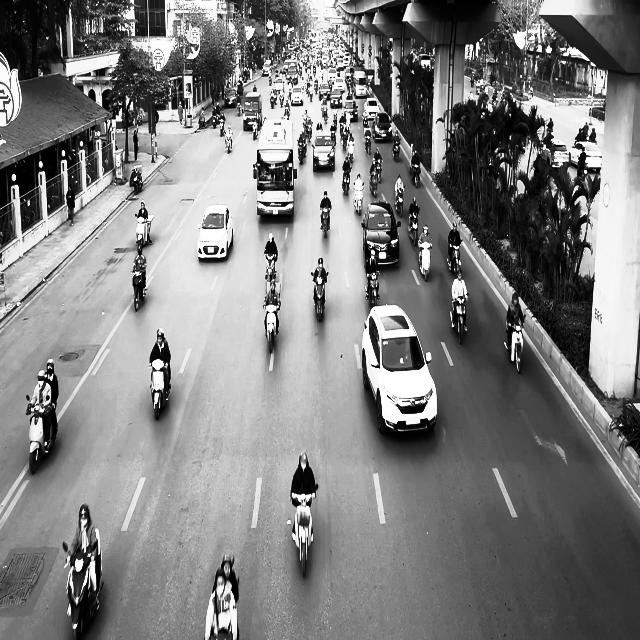bus: (253, 118, 296, 217)
car: (361, 304, 438, 436), (361, 202, 401, 266), (196, 203, 233, 260), (569, 141, 602, 172), (312, 131, 335, 171), (372, 112, 393, 142)
motorbike: (62, 540, 103, 639), (25, 394, 57, 474), (290, 486, 318, 577), (148, 359, 170, 420), (504, 315, 526, 374), (310, 271, 328, 322), (450, 294, 468, 344), (263, 303, 280, 353), (134, 213, 154, 251), (132, 269, 147, 311), (364, 268, 380, 306), (418, 240, 432, 282), (448, 240, 462, 277), (264, 252, 277, 282), (408, 211, 419, 246), (129, 166, 143, 193), (353, 181, 364, 215), (320, 205, 331, 238), (394, 186, 405, 217), (297, 137, 307, 164), (369, 170, 378, 196), (342, 170, 351, 195), (392, 138, 401, 162), (412, 164, 421, 187), (225, 132, 232, 153), (364, 134, 371, 155)
